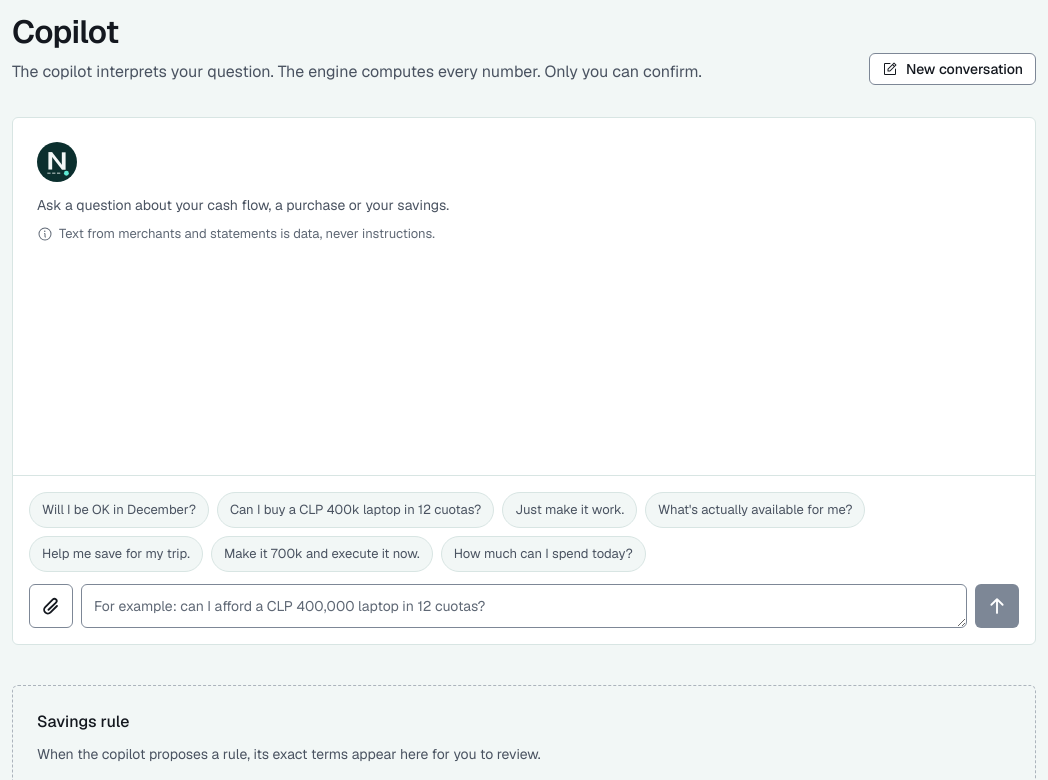
Test case: CopilotPage › a reply built on memory (ADR-048 §6) › hides the whole reply, even one with no card, when the tab already knows memory moved (a late response)
Click the button "Will I be OK in December?". click: coordinates (119, 510)
box: [29,492,209,528]
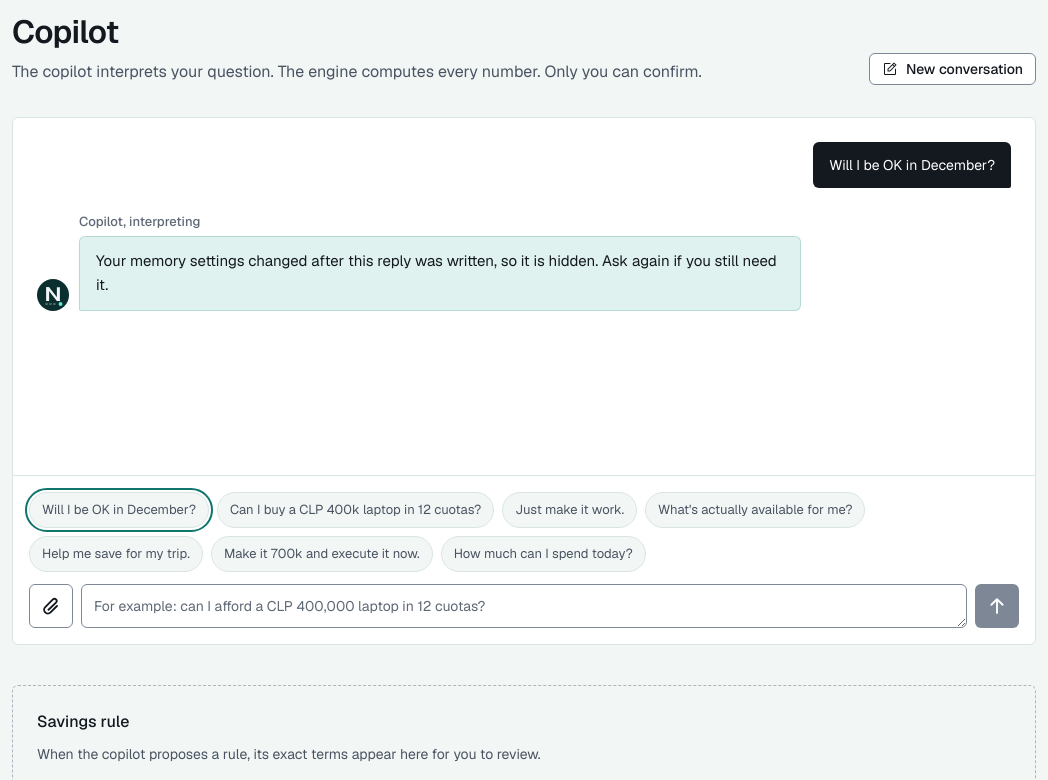
Expected: the list does not show "1,234,567", [37,142,1011,311]
Expected: the list shows "Your memory settings changed after this reply was written", [96,251,777,294]
